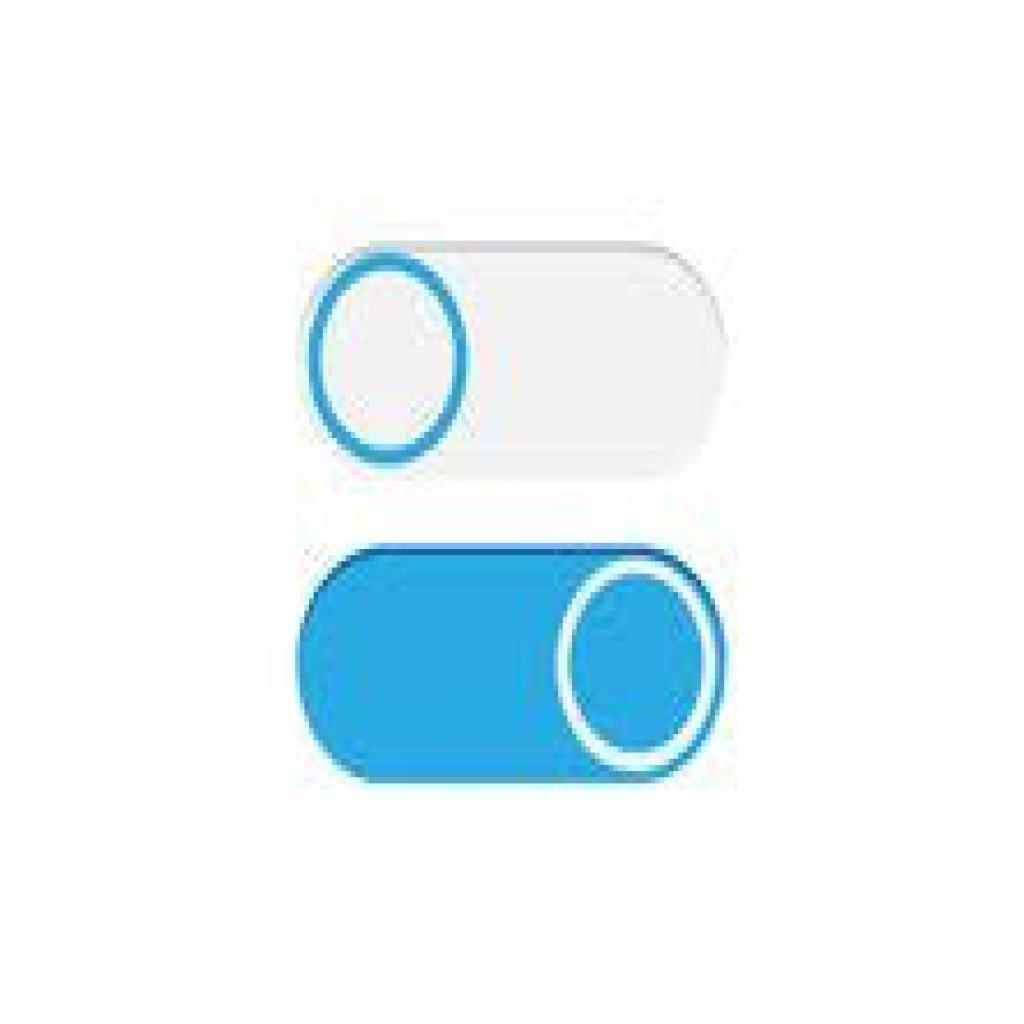switch: (288, 544, 732, 790), (303, 239, 729, 491)
